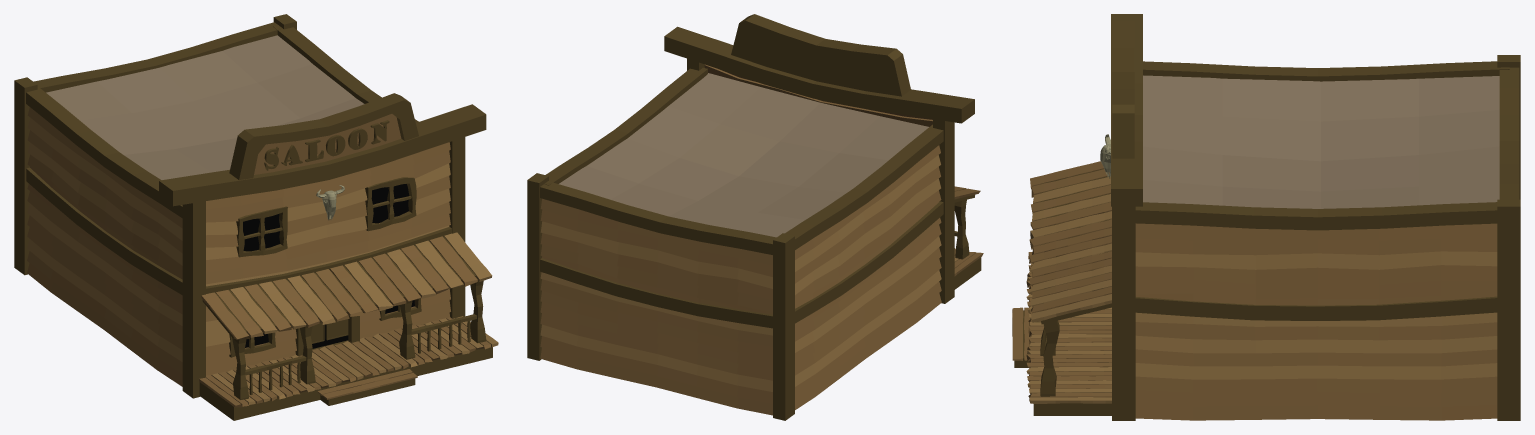
File: BuildingSaloon.fbx
The picture shows the model from 3 angles, left to right: view 1: azimuth 30°, elevation 25°; view 2: azimuth 150°, elevation 25°; view 3: azimuth 270°, elevation 25°; orthographic projection. The views are drawn at different scales.
Parts seen in each view (by area): view 1: Cube.010; view 2: Cube.010; view 3: Cube.010.
Part boxes in pixels (<box>): Cube.010: <box>14,14,498,420</box>; Cube.010: <box>527,14,983,420</box>; Cube.010: <box>1012,14,1520,420</box>.
Bounding box in the file's own units: 968 × 730 × 1188.
